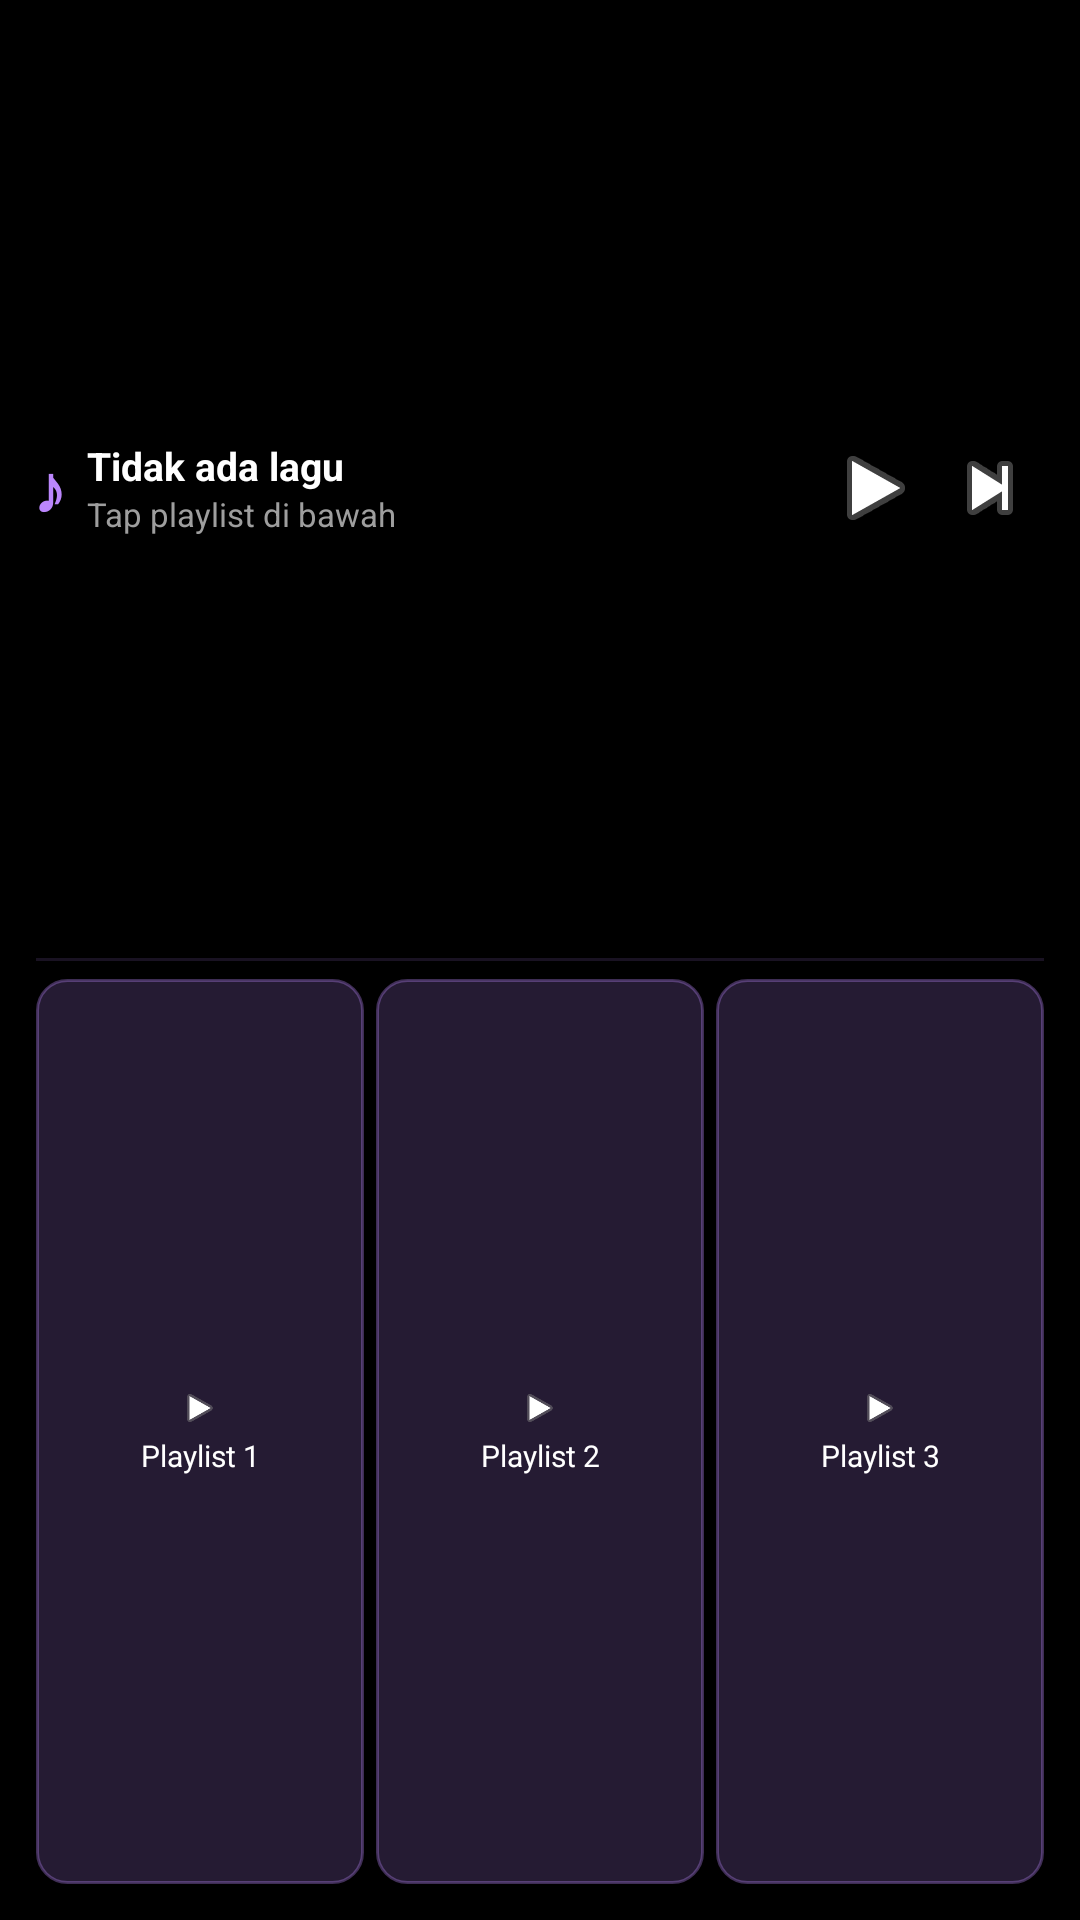

Where to tap for icons on this 1080px×1920px app screen, as (x=x, y=y):
Next: (x=990, y=488)
Play/Pause: (x=876, y=488)
